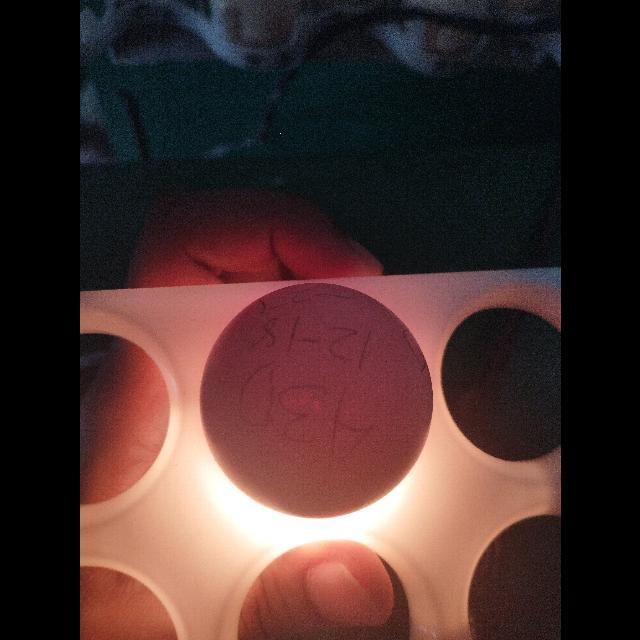B - Fair: (197, 281, 435, 521)
